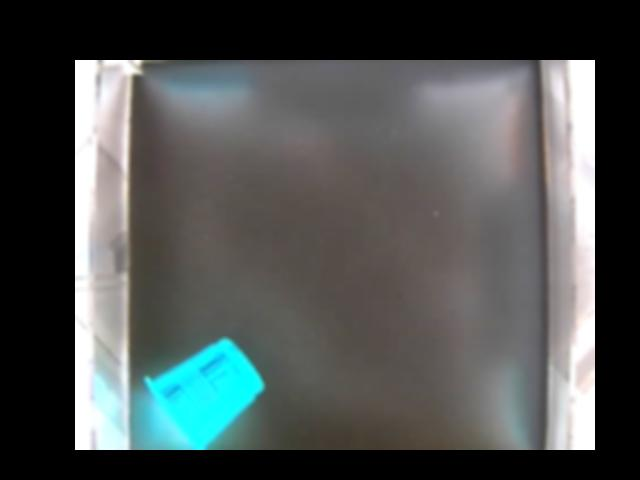Cup: (140, 337, 266, 449)
